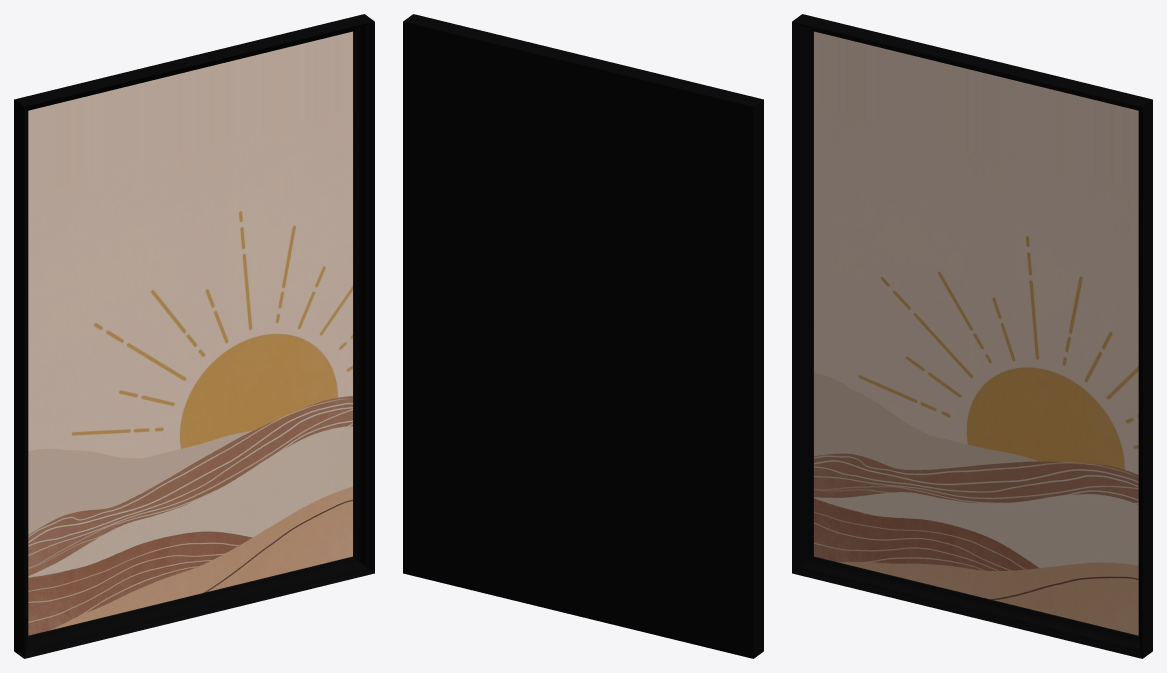
File: photoframe .fbx
3 views of the same model, side by side, from view 1: azimuth 30°, elevation 25°; view 2: azimuth 150°, elevation 25°; view 3: azimuth 330°, elevation 25° (orthographic).
Parts seen in each view (by area): view 1: NurbsPath.032, NurbsPath.030, NurbsPath.031; view 2: NurbsPath.031; view 3: NurbsPath.032, NurbsPath.030, NurbsPath.031.
Part boxes in pixels (x1,y1,x2,y2): NurbsPath.032: [28, 31, 352, 635]; NurbsPath.030: [24, 21, 374, 658]; NurbsPath.031: [14, 14, 374, 658]; NurbsPath.031: [403, 14, 763, 658]; NurbsPath.032: [814, 31, 1138, 635]; NurbsPath.030: [792, 21, 1142, 658]; NurbsPath.031: [792, 14, 1152, 658].
Size of the model in its own units: 6000 by 9031 by 306.
